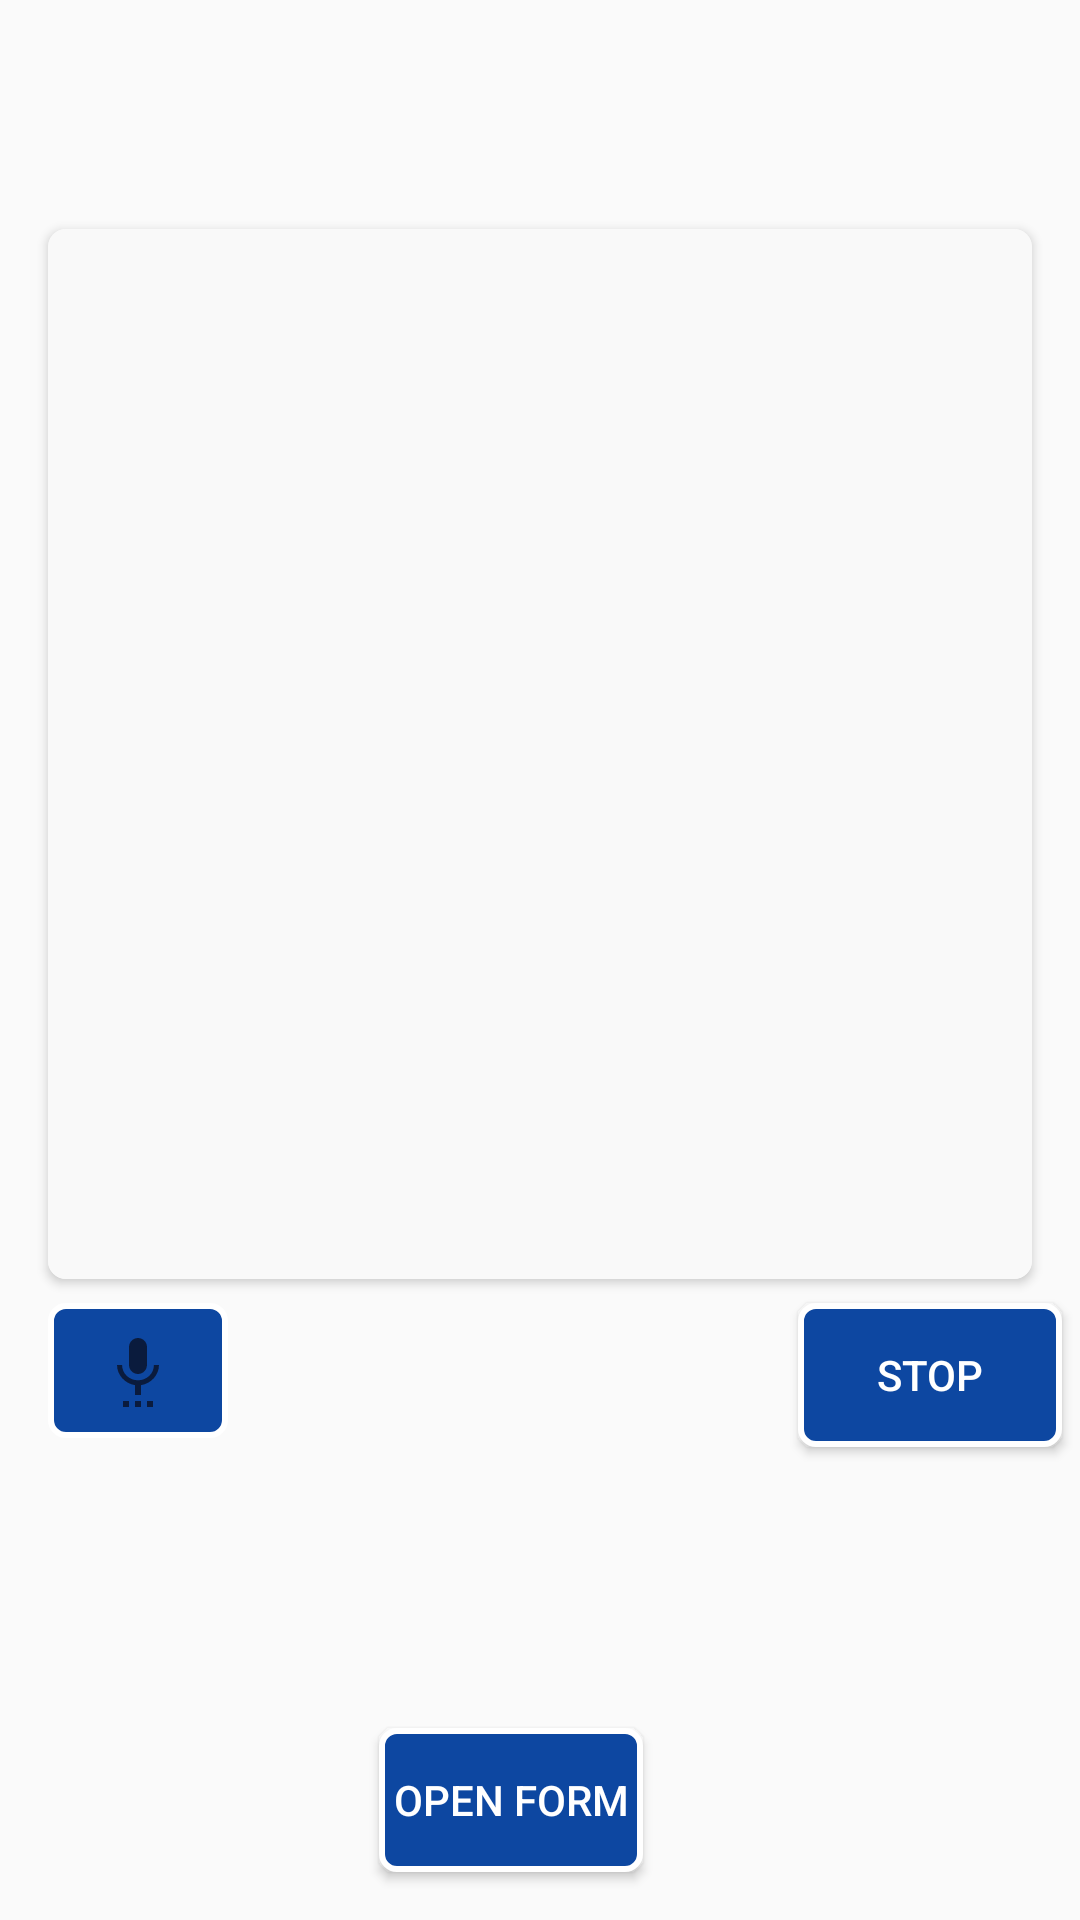

Where to tap for icons on this 1080px x 1920px app screen, as (x,y):
settings voice: (138,1370)
